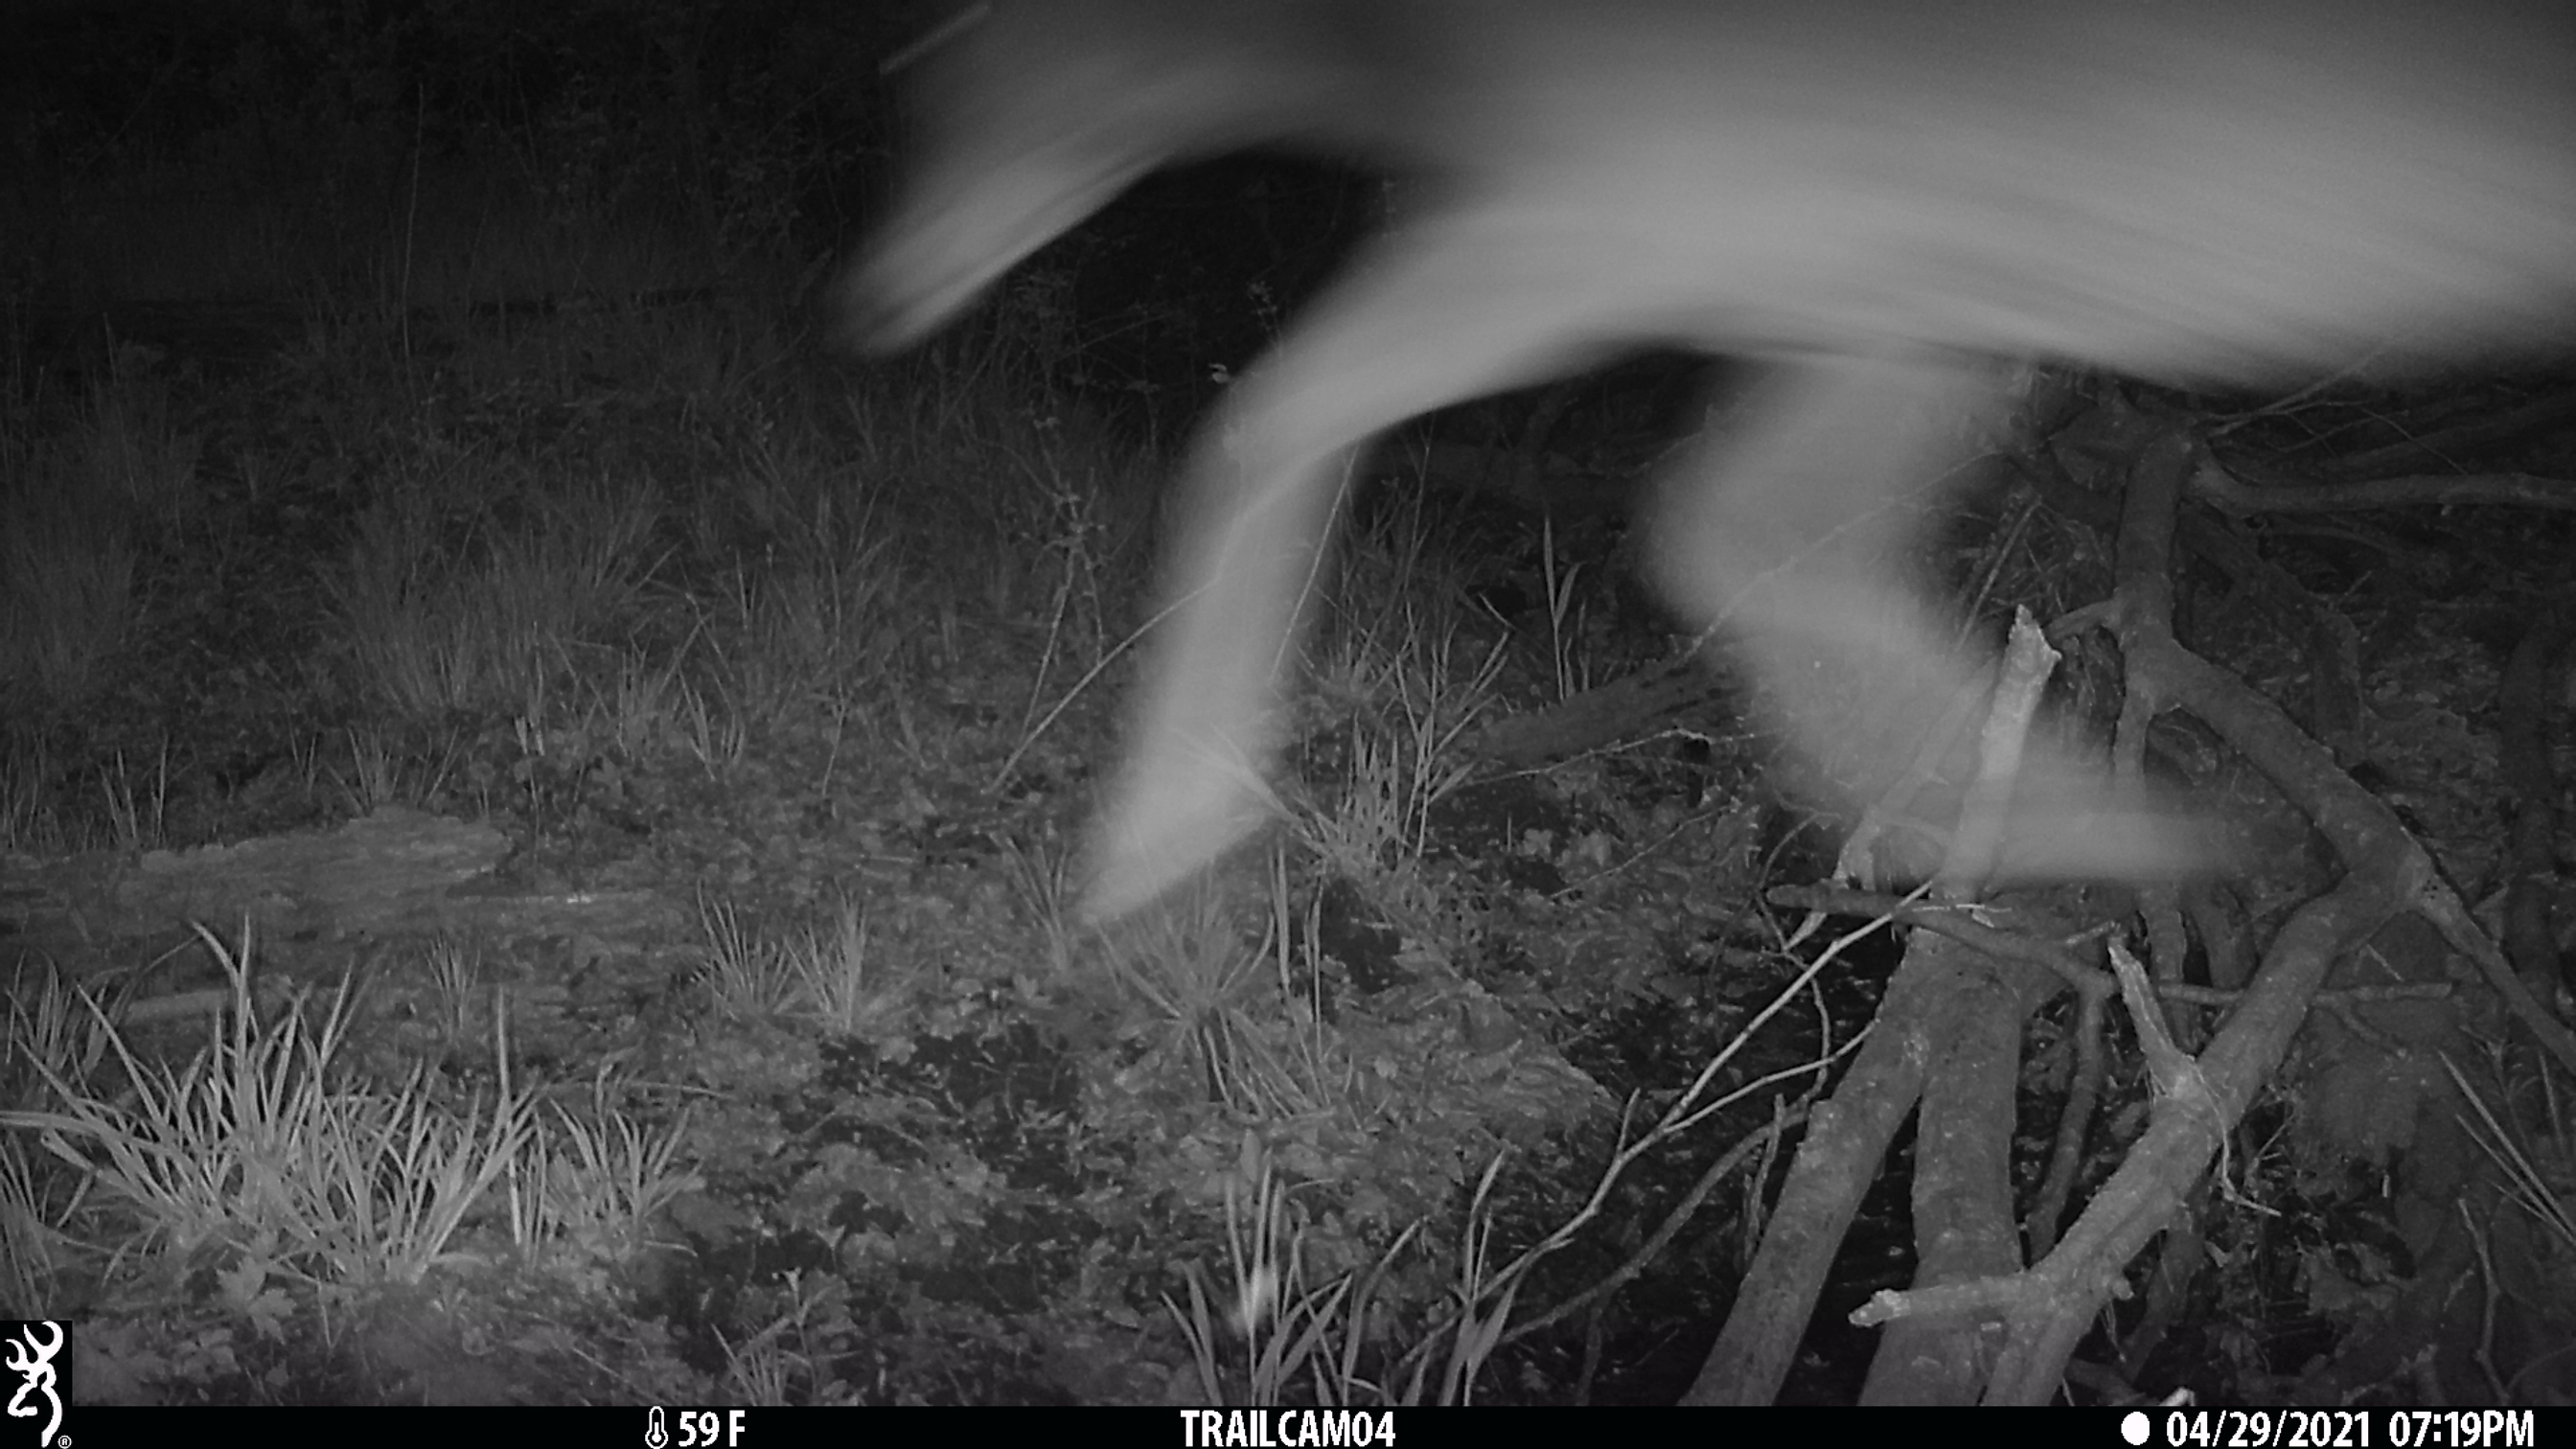Deer: (819, 2, 2576, 929)
